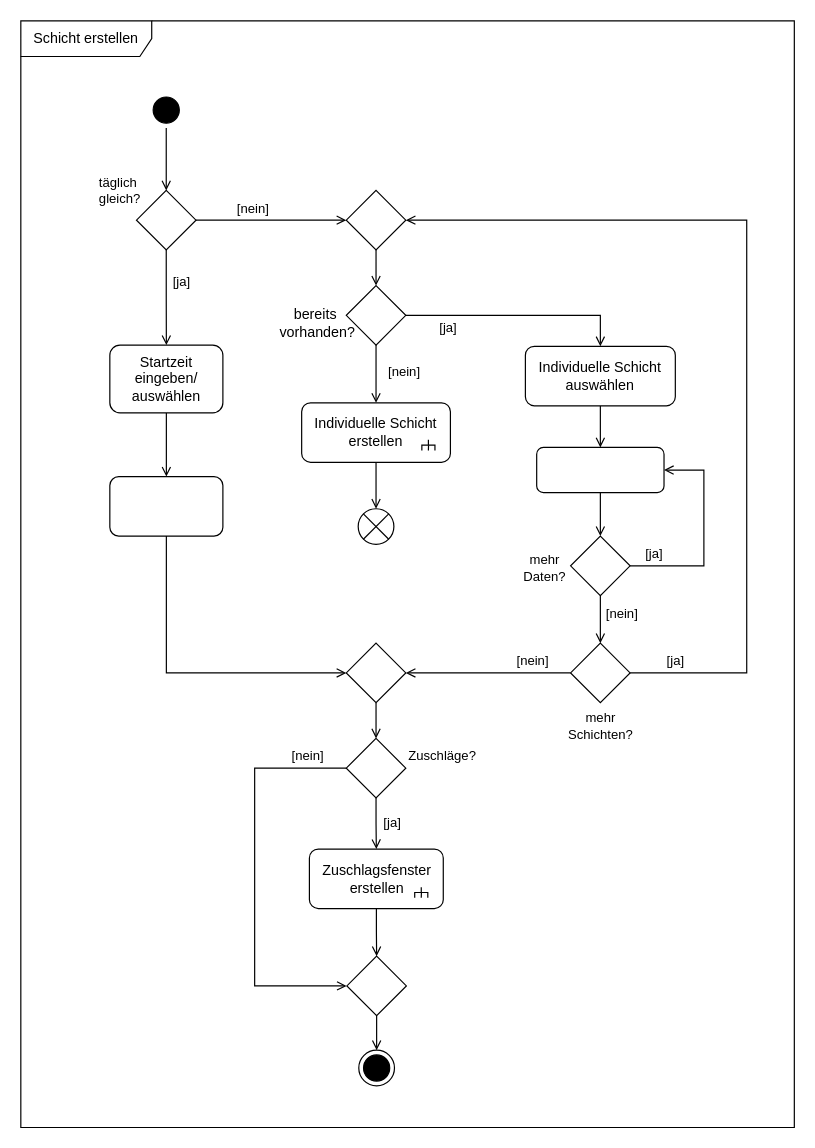
Image size: 815x1148. Some labels were removed from this diagram. The centre of each missing label's shape, as x and y in pixels:
"Datum auswählen" goes at point 600,469.
"Endzeit eingeben/ auswählen" goes at point 166,505.
